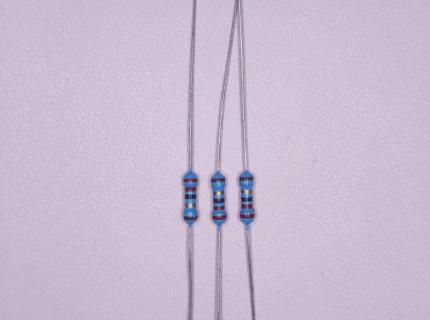Black band: (185, 194, 196, 200), (213, 198, 224, 203), (241, 197, 252, 202)
Brown band: (184, 215, 198, 220), (212, 178, 225, 183), (239, 177, 253, 181)
Gold band: (213, 190, 224, 196), (185, 203, 196, 208), (241, 189, 252, 194)
Red band: (240, 214, 255, 219), (212, 215, 226, 220), (213, 205, 225, 210), (184, 178, 198, 182), (185, 187, 196, 192), (241, 204, 252, 209)
